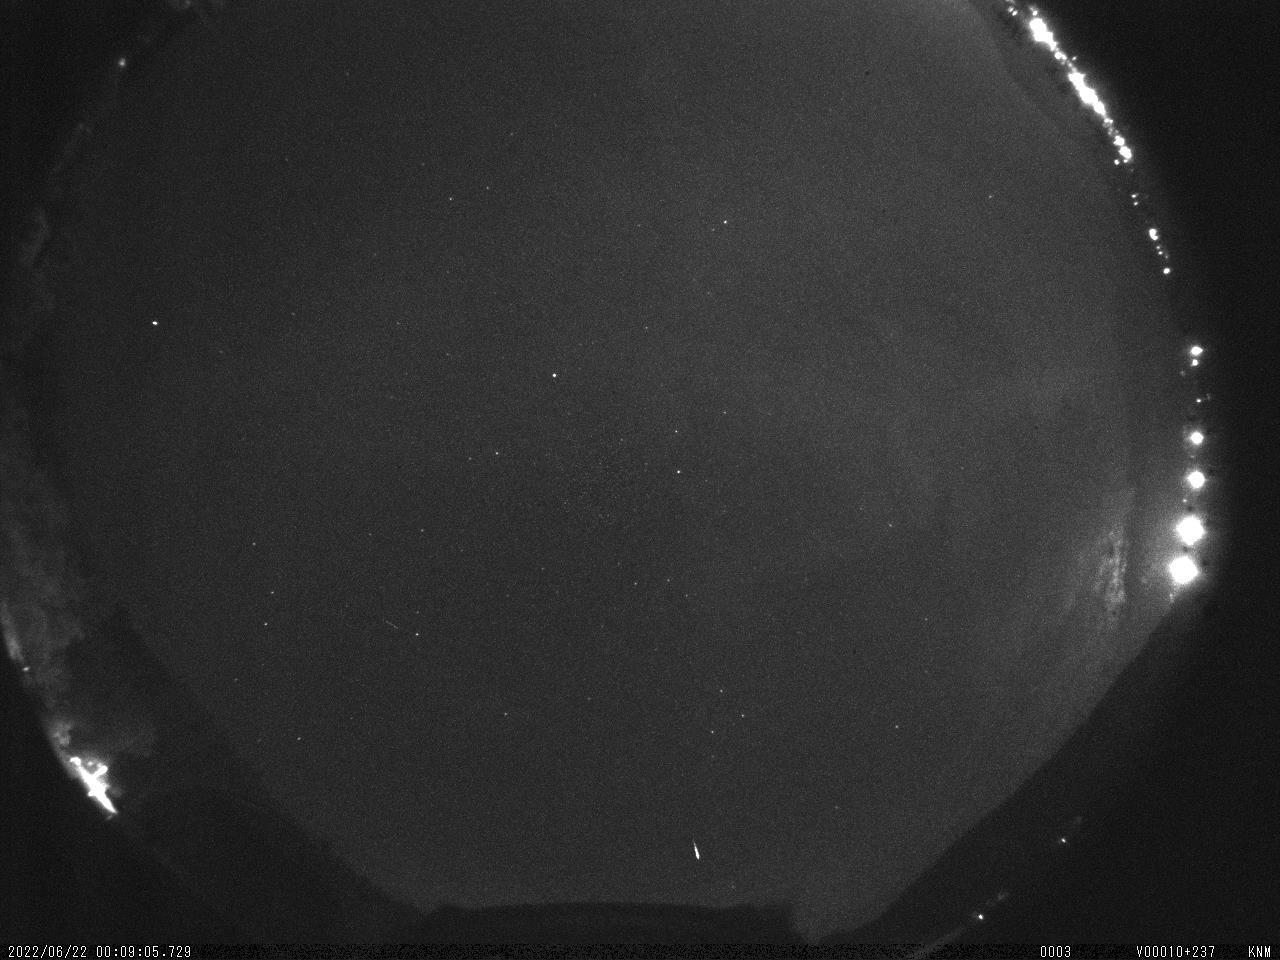Meteor: (689, 837, 703, 863)
